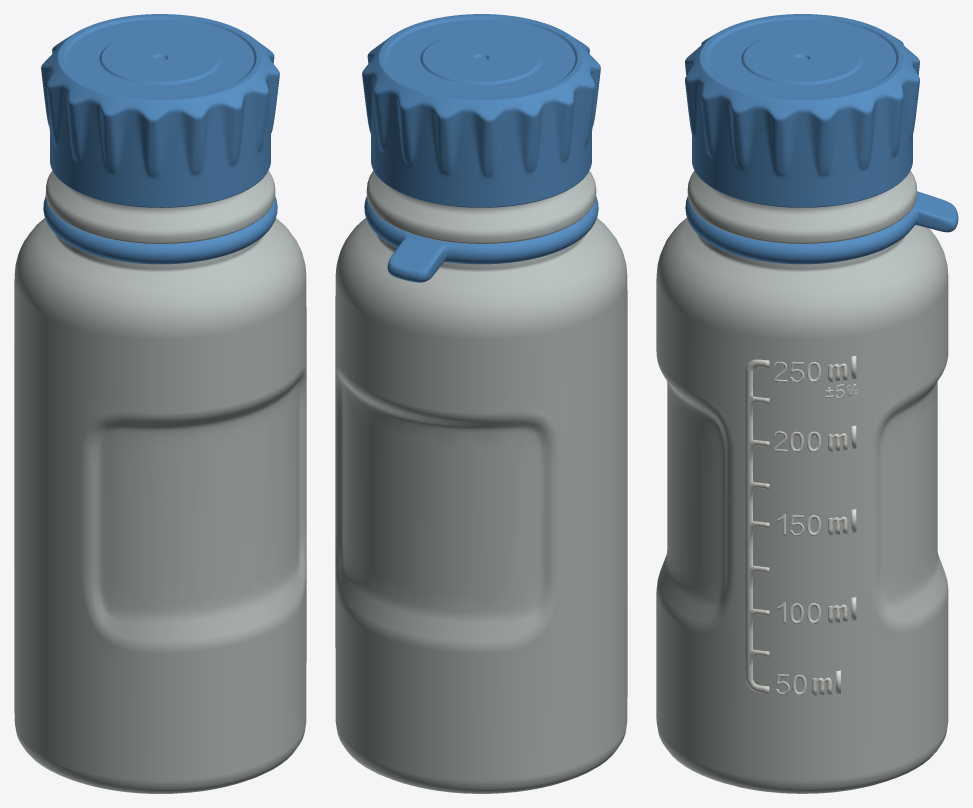
File: bottle_laboratory_a02.glb
3 views of the same model, side by side, from view 1: azimuth 30°, elevation 25°; view 2: azimuth 150°, elevation 25°; view 3: azimuth 270°, elevation 25° (orthographic).
Size of the model in its own units: 0.0672 by 0.1729 by 0.0694.
